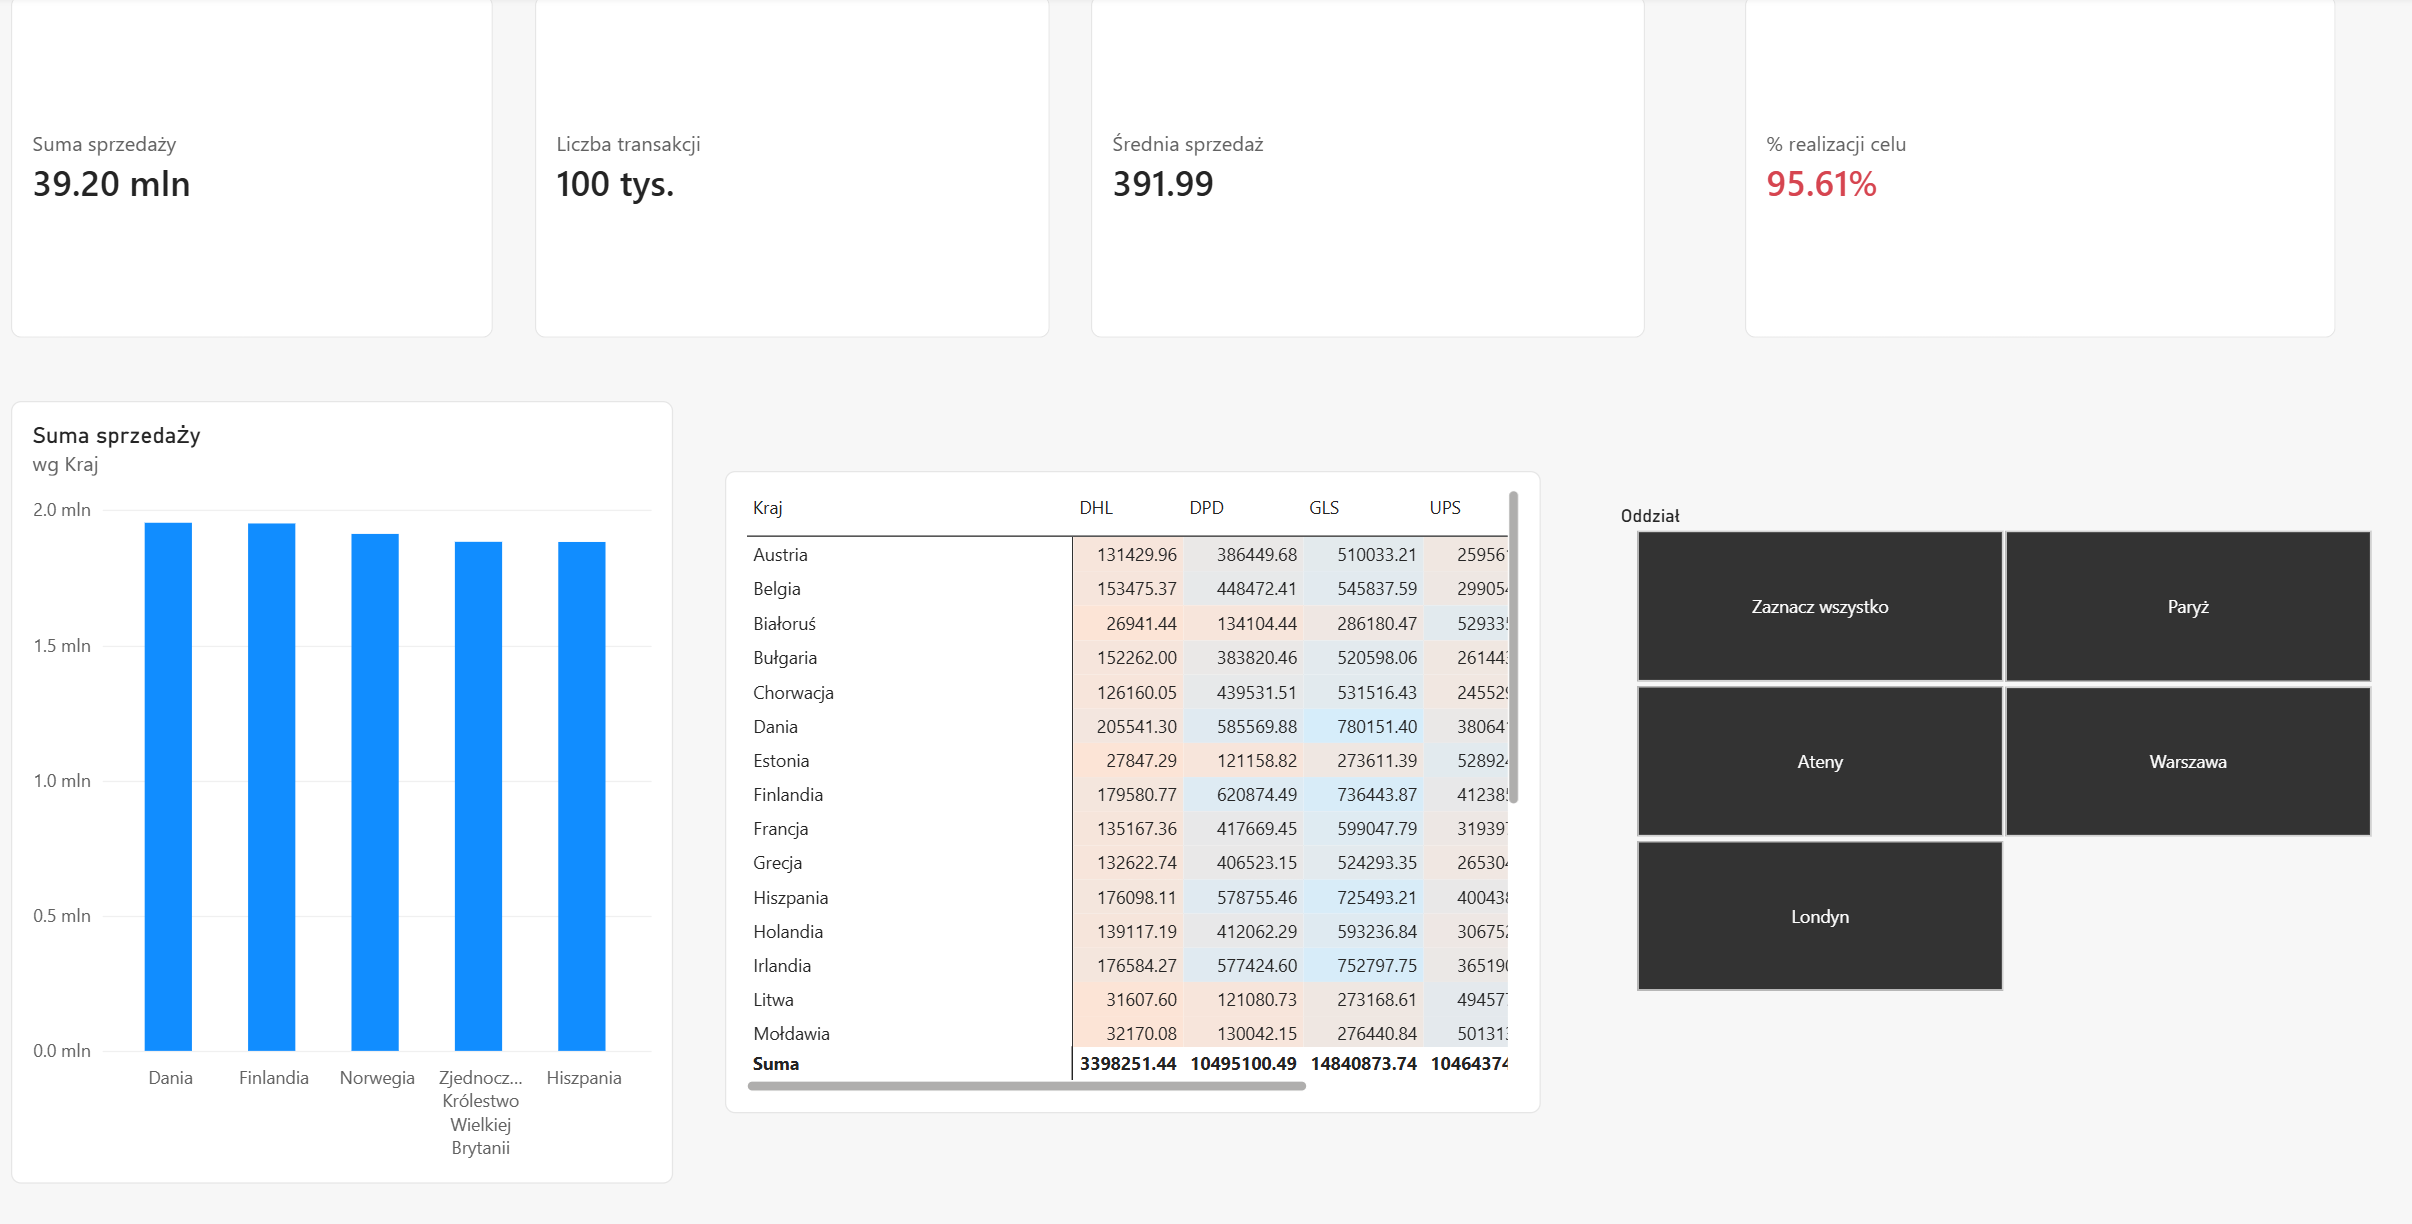

This screenshot's page, from the dashboard's own definition file:
{"tool":"powerbi","page":{"name":"Strona 2","canvas":[1920,1080],"ordinal":1},"visuals":[{"type":"cardVisual","fields":{"Data":["Zakupy.Suma sprzedaży"]},"box":[12.4,0,381.1,271.9],"z":0},{"type":"cardVisual","fields":{"Data":["Zakupy.Liczba transakcji"]},"box":[426.4,0,407.9,271.9],"z":1},{"type":"cardVisual","fields":{"Data":["Zakupy.Średnia sprzedaż"]},"box":[867.3,0,438.8,271.9],"z":2},{"type":"cardVisual","fields":{"Data":["Zakupy.% realizacji celu"]},"box":[1384.4,0,467.6,271.9],"z":3},{"type":"clusteredColumnChart","fields":{"Category":["Kraje.Kraj"],"Y":["Zakupy.Suma sprzedaży"]},"box":[12.4,321.4,523.3,618],"z":4},{"type":"pivotTable","fields":{"Columns":["FirmyKurierskie.Firma"],"Rows":["Kraje.Kraj"],"Values":["Zakupy.Suma sprzedaży"]},"box":[576.8,377,644.8,506.8],"z":5},{"type":"slicer","fields":{"Values":["Oddziały.Oddział"]},"box":[1277.3,403.8,620.1,385.2],"z":6},{"type":"textbox","box":[721,970.3,525.3,90.6],"z":7}]}

Visuals, with their boxes on the page's 1920x1080 design canvas (x1, y1, x2, y2). These are canvas units, not pixel positions in the 2412x1224 screenshot, which may show the page scaled, cropped or inside an application window:
cardVisual - Zakupy.Suma sprzedaży: <bbox>12, 0, 394, 272</bbox>
cardVisual - Zakupy.Liczba transakcji: <bbox>426, 0, 834, 272</bbox>
cardVisual - Zakupy.Średnia sprzedaż: <bbox>867, 0, 1306, 272</bbox>
cardVisual - Zakupy.% realizacji celu: <bbox>1384, 0, 1852, 272</bbox>
clusteredColumnChart - Kraje.Kraj x Zakupy.Suma sprzedaży: <bbox>12, 321, 536, 939</bbox>
pivotTable - FirmyKurierskie.Firma x Kraje.Kraj: <bbox>577, 377, 1222, 884</bbox>
slicer - Oddziały.Oddział: <bbox>1277, 404, 1897, 789</bbox>
textbox: <bbox>721, 970, 1246, 1061</bbox>
